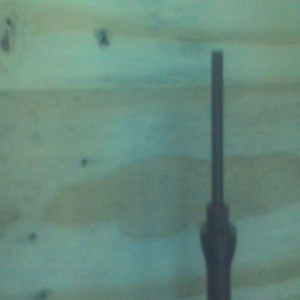obeng: (199, 48, 238, 300)
